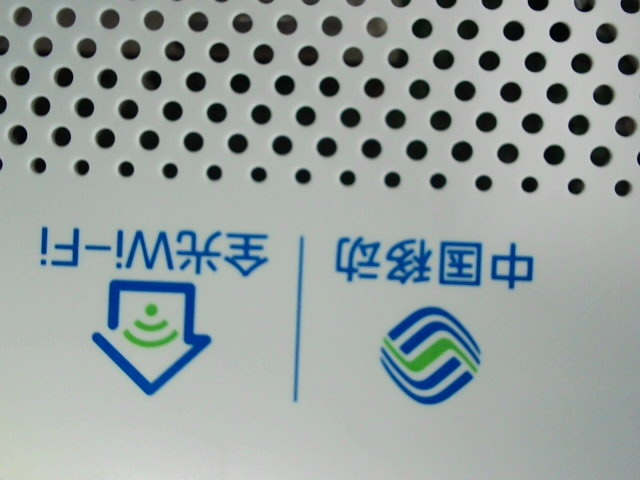BJ_QuanGuangMobile: (32, 201, 542, 407)
